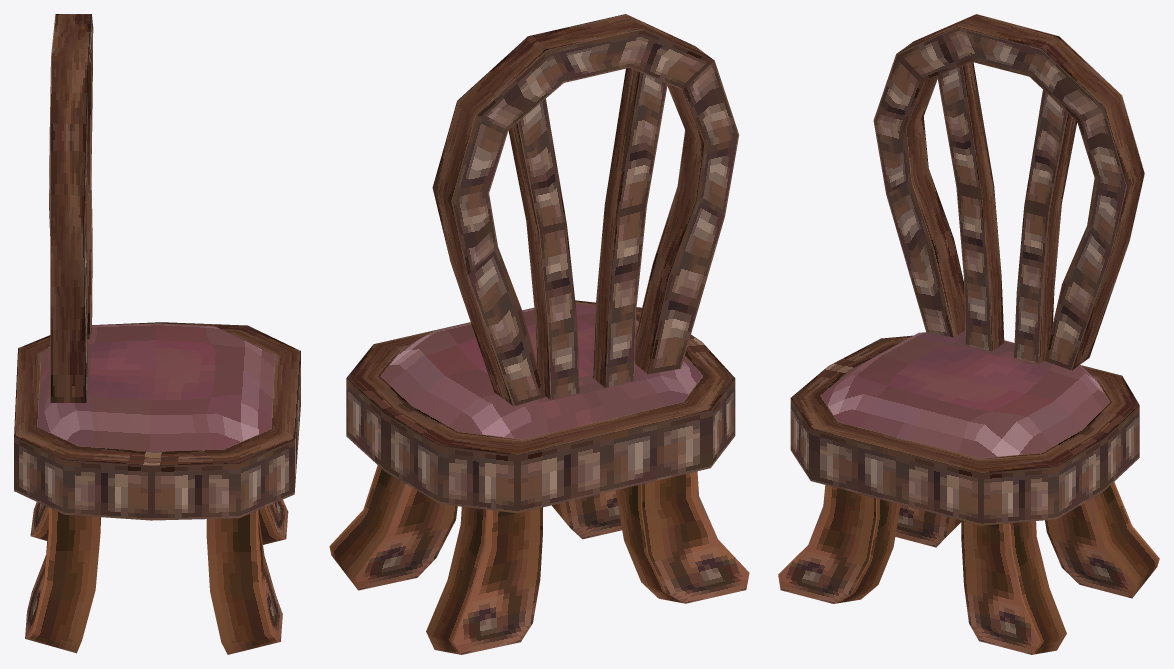
Rendered from oisu-3.glb.
3 renders of one model, left to right at view 1: azimuth 30°, elevation 25°; view 2: azimuth 150°, elevation 25°; view 3: azimuth 270°, elevation 25°, orthographic. The views are drawn at different scales.
Parts seen in each view (by area): view 1: oisu; view 2: oisu; view 3: oisu.
Part boxes in pixels (left/top/right/bottom): oisu: left=14, top=14, right=300, bottom=654; oisu: left=329, top=14, right=749, bottom=654; oisu: left=778, top=14, right=1159, bottom=654.
Bounding box in the file's own units: 144 × 233 × 152.
3 materials, 3 textured.
